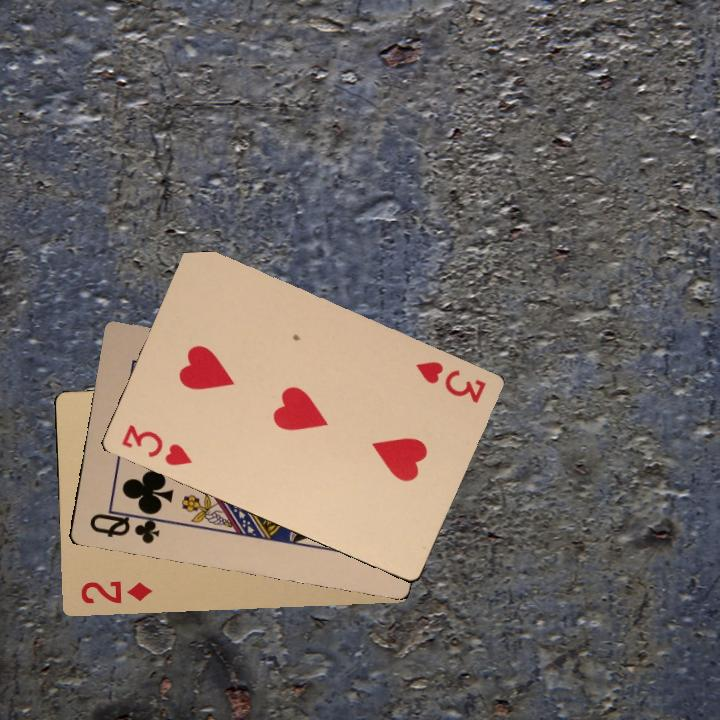2d: (76, 576, 154, 607)
3h: (411, 357, 489, 406), (117, 420, 194, 469)
Qc: (85, 505, 166, 546)
